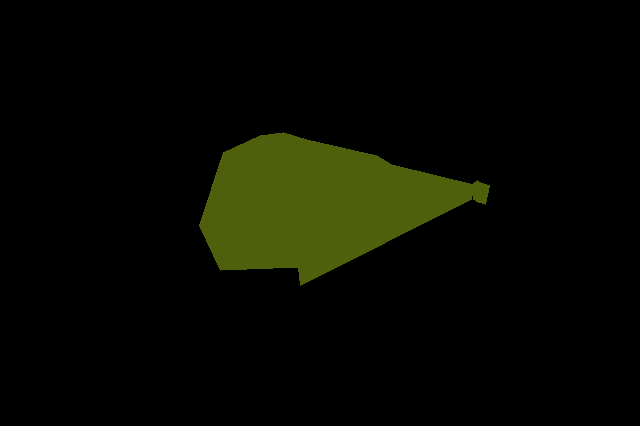Train: (199, 132, 490, 285)
